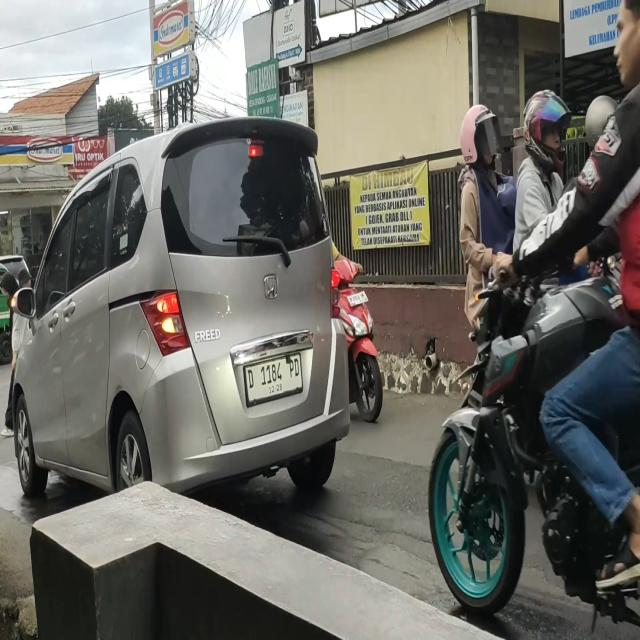helmet: (527, 88, 566, 158), (465, 106, 502, 173)
no-helmet: (614, 1, 640, 81)
